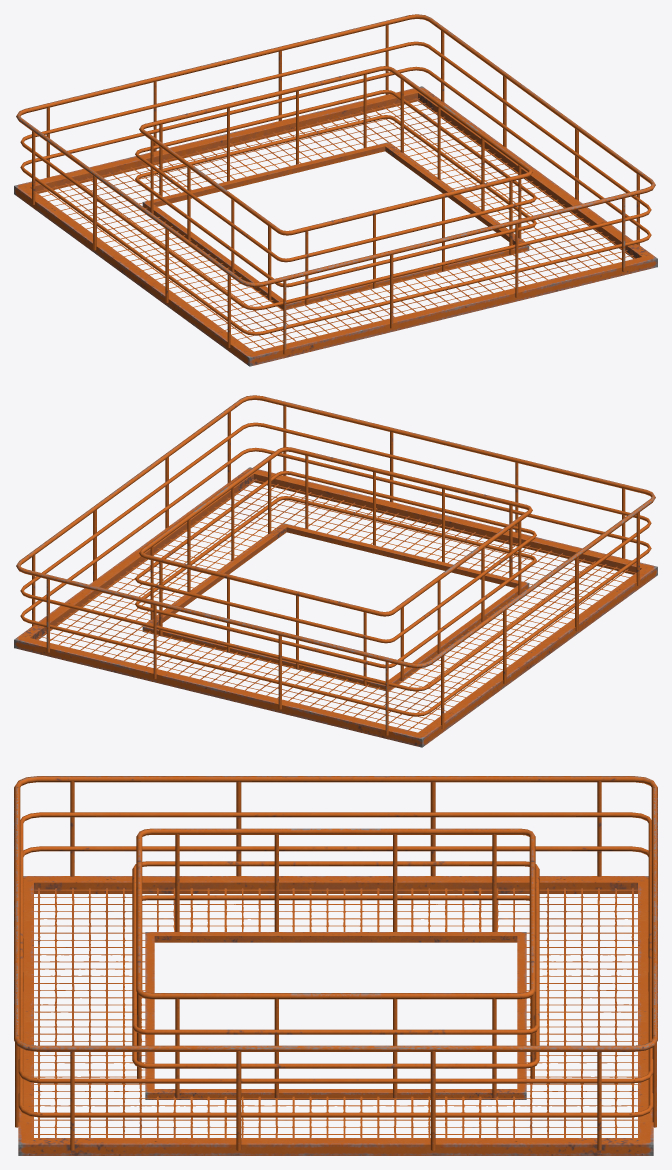
The model's file is Platform_01.fbx.
The picture shows the model from 3 angles, top to bottom: view 1: azimuth 30°, elevation 25°; view 2: azimuth 150°, elevation 25°; view 3: azimuth 270°, elevation 25°; orthographic projection. The views are drawn at different scales.
Visible parts, largest first — view 1: Platform_01_LOD0; view 2: Platform_01_LOD0; view 3: Platform_01_LOD0.
Part boxes in pixels (bbox=[...]): Platform_01_LOD0: bbox=[14, 14, 657, 366]; Platform_01_LOD0: bbox=[14, 395, 657, 747]; Platform_01_LOD0: bbox=[14, 776, 657, 1155].
Size of what is drawn, in the model's own units: 5.15 by 0.9717 by 5.15.
